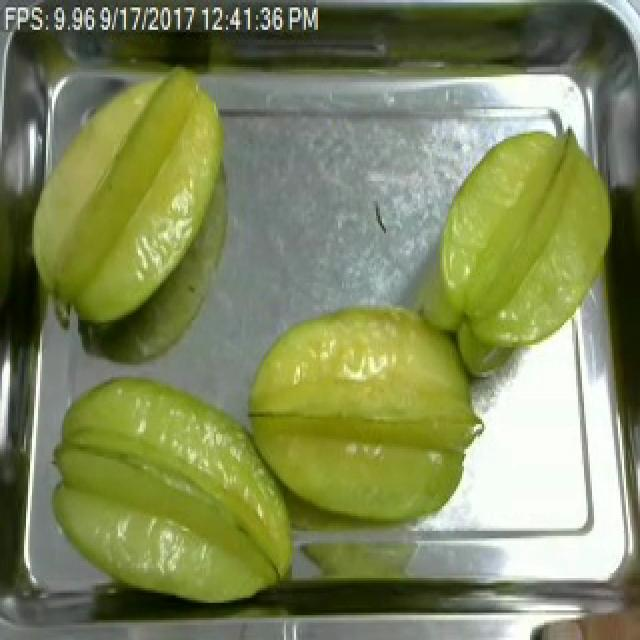fruit: (38, 362, 312, 613), (228, 293, 496, 536), (16, 57, 236, 342), (422, 114, 628, 362)
